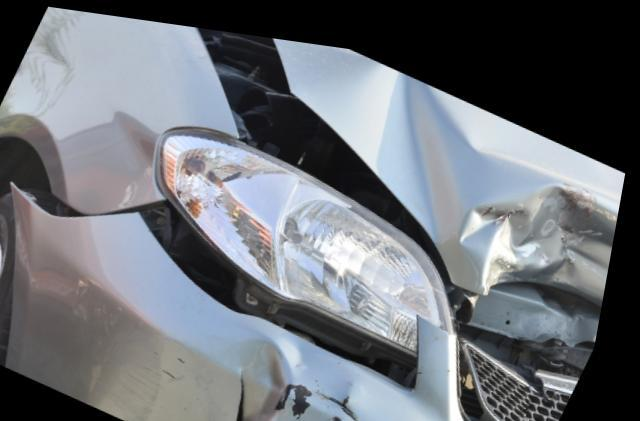crack: (248, 361, 258, 421)
dent: (350, 49, 628, 291), (255, 325, 305, 421)
dislocated part: (193, 21, 628, 321), (19, 181, 490, 421)
scratch: (106, 333, 205, 421), (278, 371, 392, 421)
